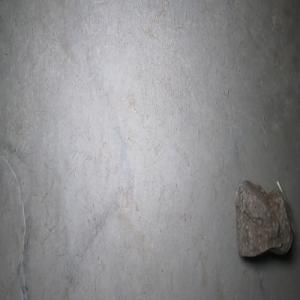Rock: (234, 177, 295, 257)
